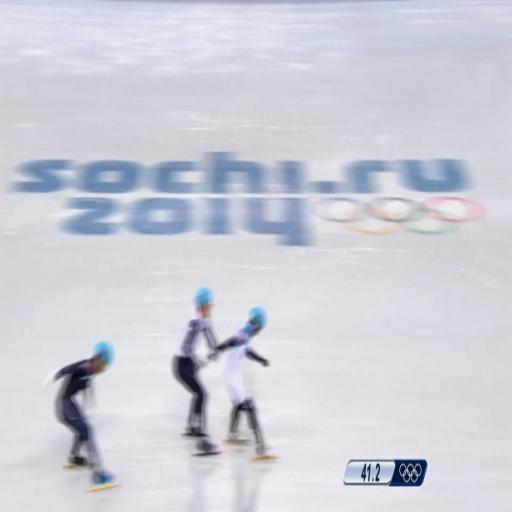Skater: (45, 342, 115, 490), (218, 307, 274, 458), (173, 288, 218, 454)
